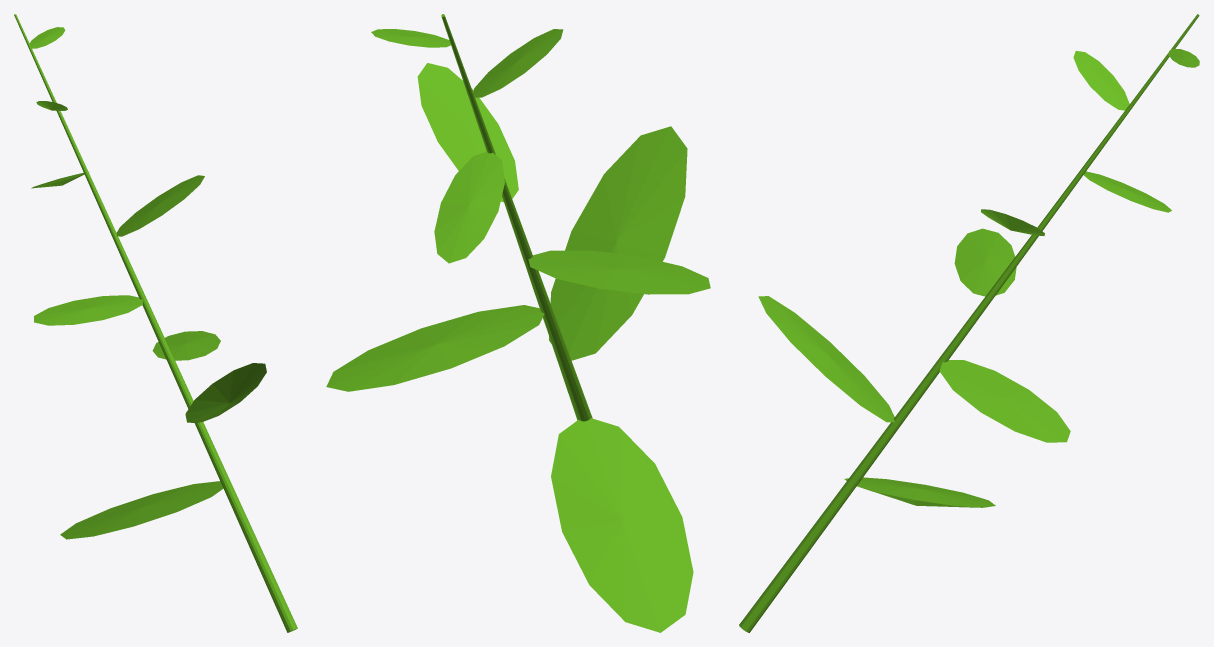
The picture shows the model from 3 angles, left to right: view 1: azimuth 30°, elevation 25°; view 2: azimuth 150°, elevation 25°; view 3: azimuth 270°, elevation 25°; orthographic projection. The views are drawn at different scales.
Visible parts, largest first — view 1: tree; view 2: tree; view 3: tree.
Part boxes in pixels (x1,y1,x2,y2): tree: (14,14,297,632); tree: (326,14,710,632); tree: (739,14,1199,632).
Size of the model in its own units: 0.129 by 0.213 by 0.2922.
